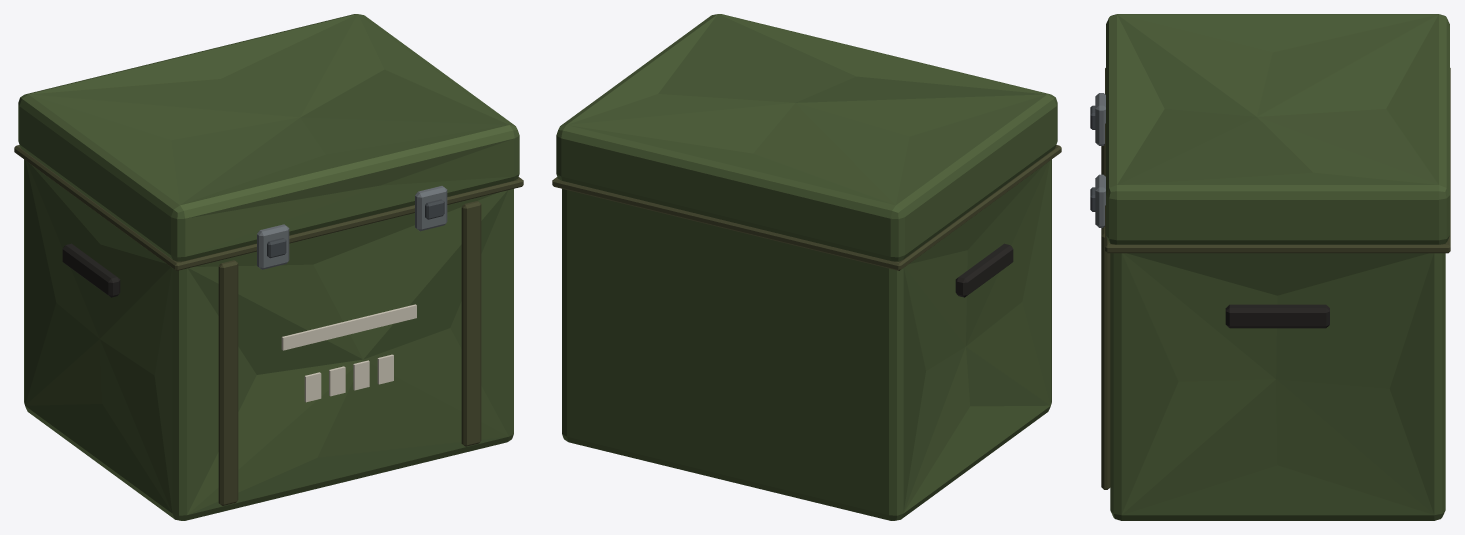
The model's file is crate_wood_voennyy_idle.glb.
The picture shows the model from 3 angles, left to right: view 1: azimuth 30°, elevation 25°; view 2: azimuth 150°, elevation 25°; view 3: azimuth 270°, elevation 25°; orthographic projection. The views are drawn at different scales.
Visible parts, largest first — view 1: crate_wood_voennyy_idle; view 2: crate_wood_voennyy_idle; view 3: crate_wood_voennyy_idle.
Part boxes in pixels (<box>): crate_wood_voennyy_idle: <box>14,14,523,520</box>; crate_wood_voennyy_idle: <box>552,14,1061,520</box>; crate_wood_voennyy_idle: <box>1090,14,1450,520</box>.
Size of the model in its own units: 0.604 by 0.5 by 0.484.
1 material, 1 textured.
